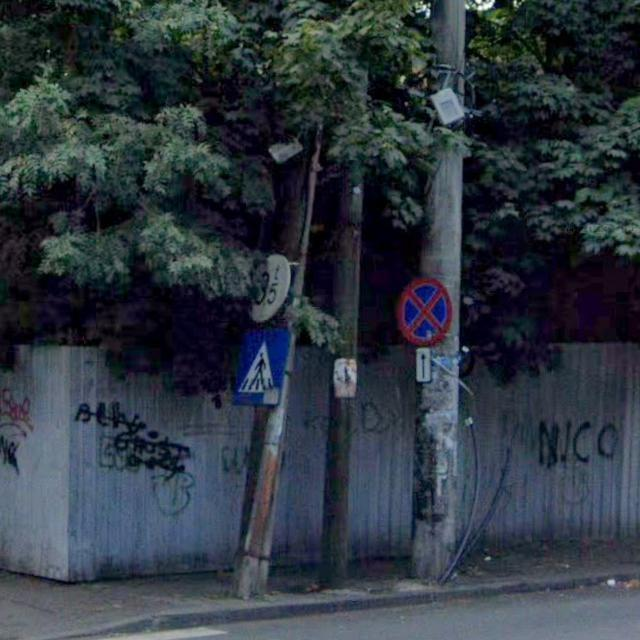forb_waiting: (396, 278, 453, 345)
info_crosswalk: (231, 326, 291, 408)
